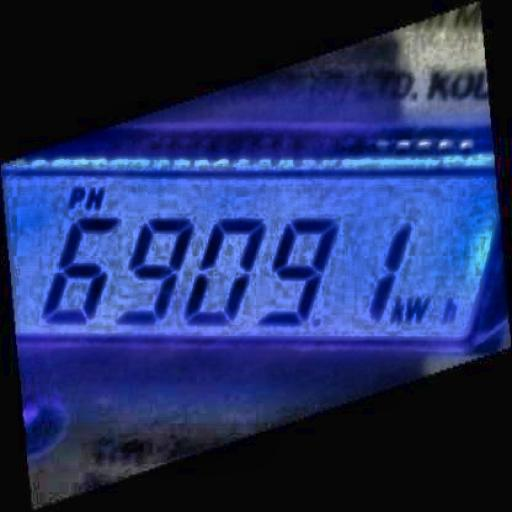DISPLAY_REGION: (0, 126, 511, 370)
SERIAL_REGION: (35, 213, 452, 326)
